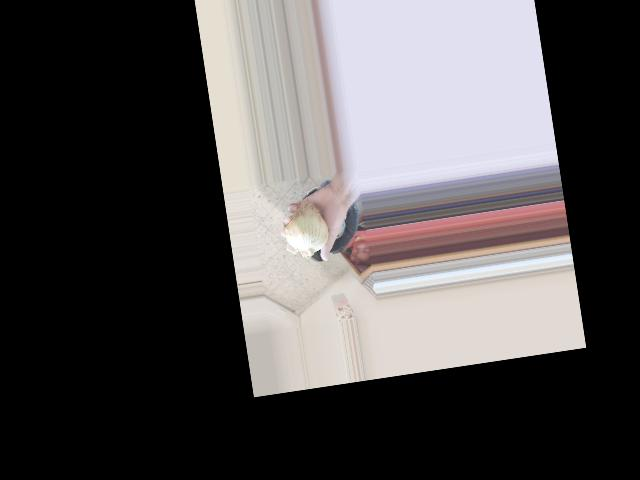onion: (283, 199, 333, 258)
